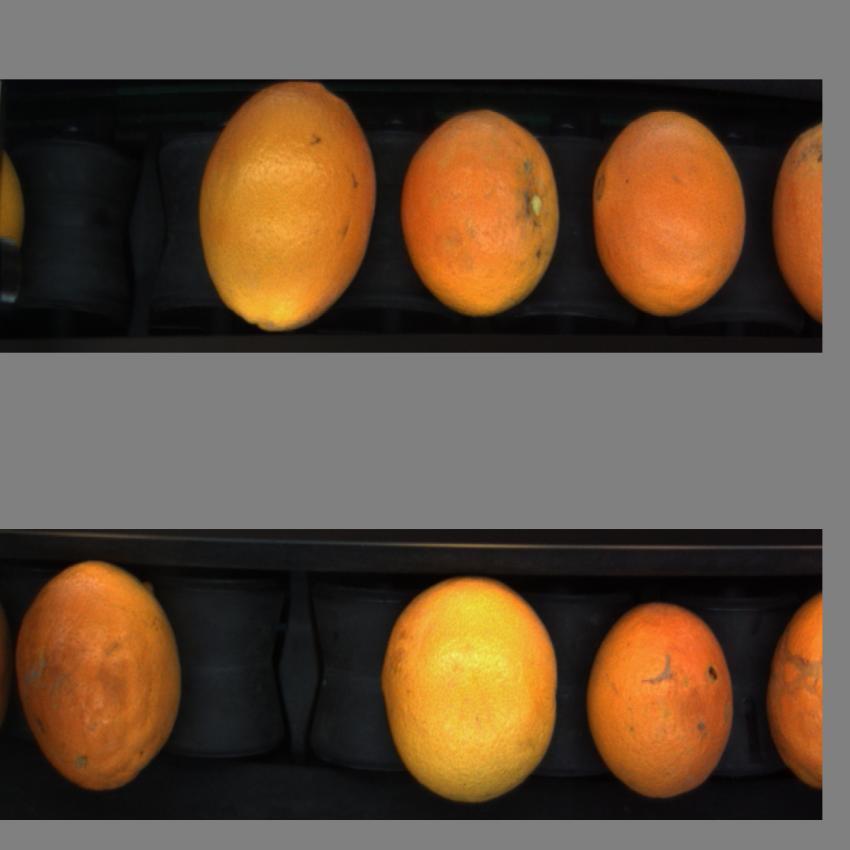Buen estado: (192, 82, 382, 337), (377, 571, 568, 810), (398, 103, 566, 320), (587, 106, 749, 320), (582, 582, 738, 800), (760, 583, 824, 786), (766, 111, 822, 321)
Mal estado: (16, 559, 188, 791)
